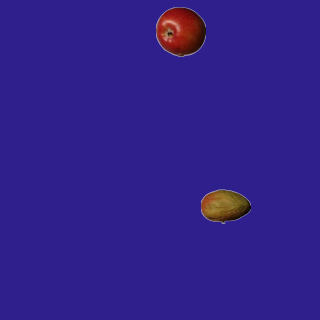Apple Braeburn: (155, 6, 205, 56)
Papaya: (200, 181, 250, 231)
